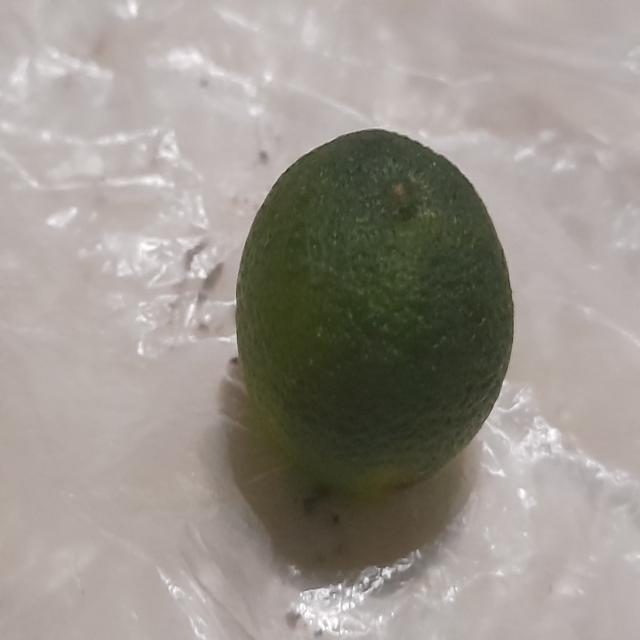heathy: (231, 122, 519, 504)
